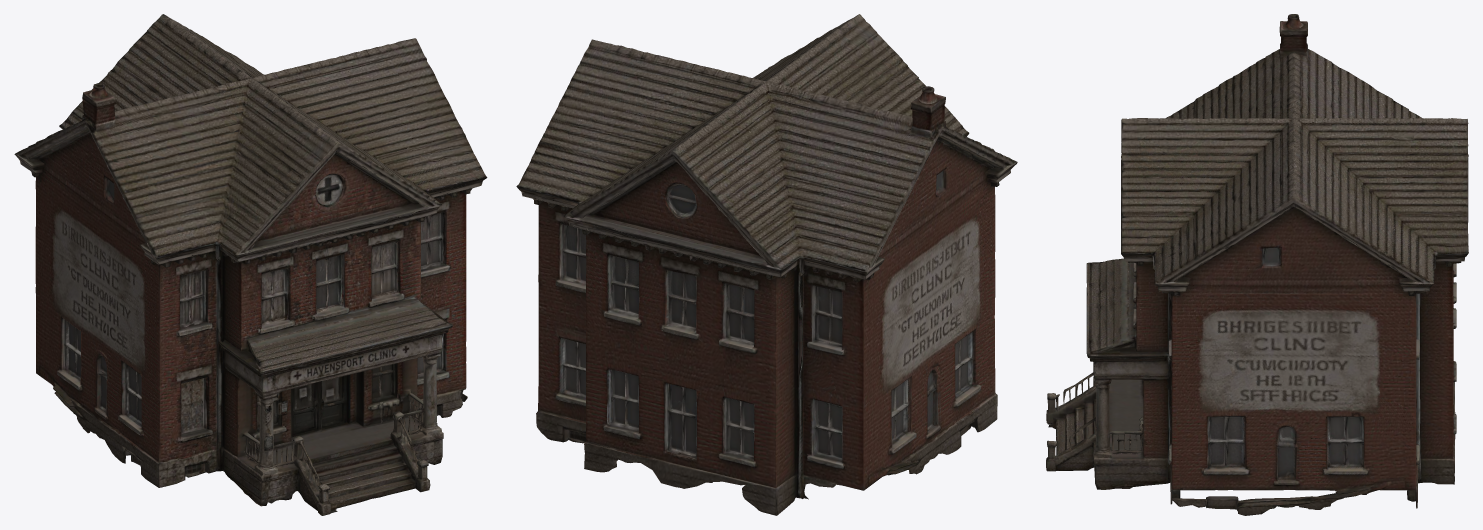
File: town_building_civic.glb
3 views of the same model, side by side, from view 1: azimuth 30°, elevation 25°; view 2: azimuth 150°, elevation 25°; view 3: azimuth 270°, elevation 25° (orthographic). The views are drawn at different scales.
Visible parts, largest first — view 1: tripo_node_aedce933-cfa8-446b-8384-102136c4acee; view 2: tripo_node_aedce933-cfa8-446b-8384-102136c4acee; view 3: tripo_node_aedce933-cfa8-446b-8384-102136c4acee.
Boxes of the visible parts, bbox=[...] form: tripo_node_aedce933-cfa8-446b-8384-102136c4acee: bbox=[14, 14, 487, 515]; tripo_node_aedce933-cfa8-446b-8384-102136c4acee: bbox=[516, 14, 1017, 515]; tripo_node_aedce933-cfa8-446b-8384-102136c4acee: bbox=[1046, 14, 1468, 515].
Size of the model in its own units: 0.8911 by 0.9353 by 0.9997.
Materials: 1 (1 with a texture image).
